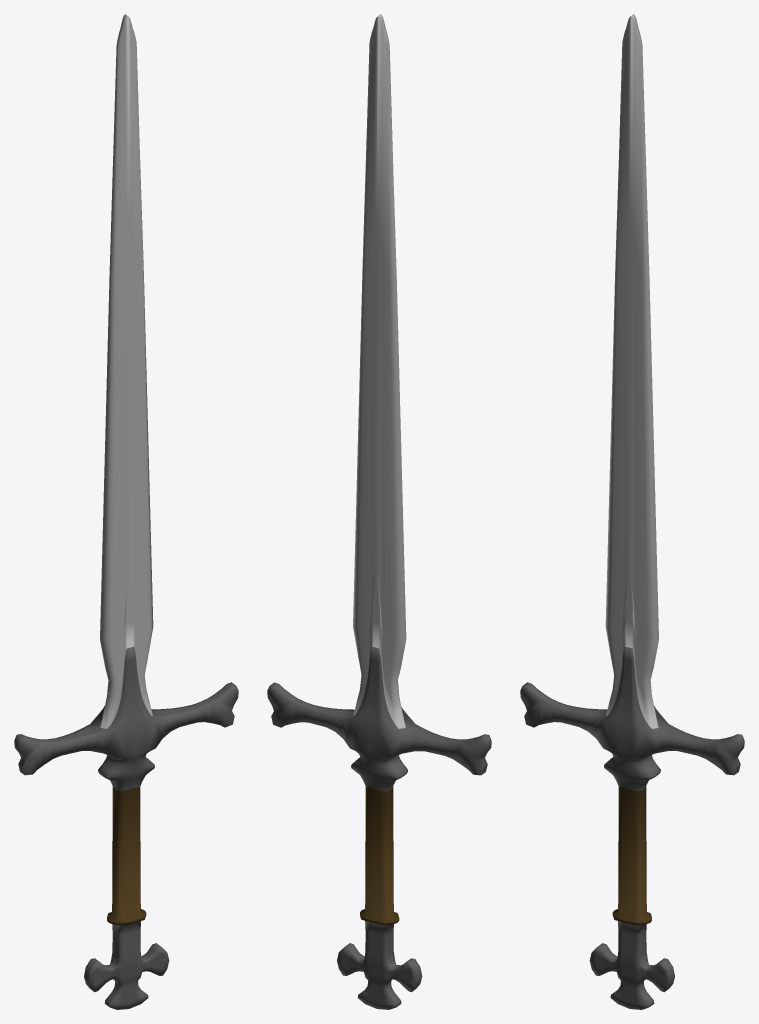
Rendered from great_holy_sword.fbx.
3 views of the same model, side by side, from view 1: azimuth 30°, elevation 25°; view 2: azimuth 150°, elevation 25°; view 3: azimuth 330°, elevation 25° (orthographic).
Visible parts, largest first — view 1: Great Sword; view 2: Great Sword; view 3: Great Sword.
Boxes of the visible parts, box(x1,y1,x2,y2) form: Great Sword: box(14, 14, 238, 1009); Great Sword: box(267, 14, 491, 1009); Great Sword: box(520, 14, 744, 1009).
Bounding box in the file's own units: 141 × 609 × 23.1.
